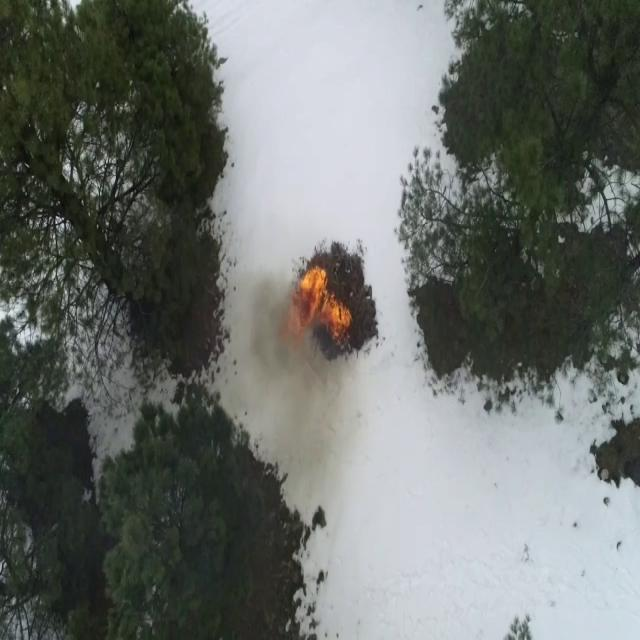fire: (293, 263, 324, 329), (326, 299, 352, 345)
